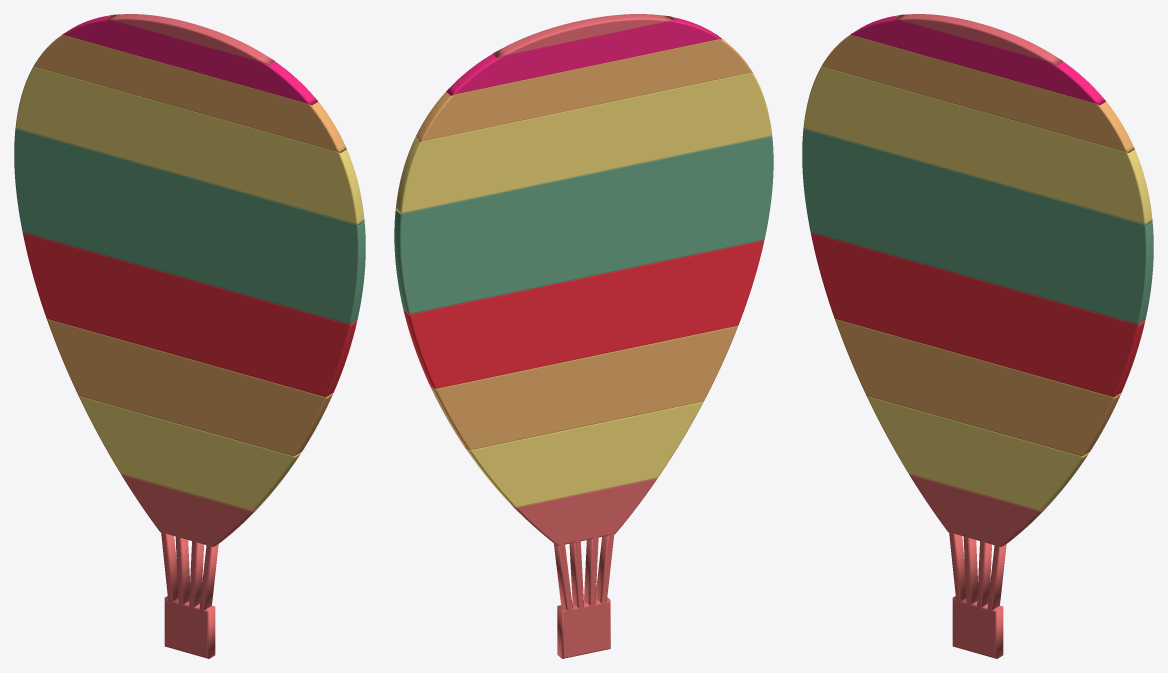
The model's file is airBalloon.glb.
3 views of the same model, side by side, from view 1: azimuth 90°, elevation 25°; view 2: azimuth 150°, elevation 25°; view 3: azimuth 270°, elevation 25° (orthographic).
Parts seen in each view (by area): view 1: Balloon_05_Green, Balloon_04_Yellow, Balloon_06_Yellow, Balloon_03_Orange, Balloon_02_Yellow, Balloon_07_Orange, Balloon_08_Yellow, Balloon_01_Red, Balloon_Basket, Balloon_09_Red, Balloon_Rope_3, Balloon_Rope_4 (+2 smaller); view 2: Balloon_05_Green, Balloon_04_Yellow, Balloon_06_Yellow, Balloon_03_Orange, Balloon_02_Yellow, Balloon_07_Orange, Balloon_08_Yellow, Balloon_01_Red, Balloon_09_Red, Balloon_Basket, Balloon_Rope_1, Balloon_Rope_2 (+2 smaller); view 3: Balloon_05_Green, Balloon_04_Yellow, Balloon_06_Yellow, Balloon_03_Orange, Balloon_02_Yellow, Balloon_07_Orange, Balloon_08_Yellow, Balloon_01_Red, Balloon_Basket, Balloon_09_Red, Balloon_Rope_2, Balloon_Rope_1 (+2 smaller).
Boxes of the visible parts, x1,y1,x2,y2 form: Balloon_05_Green: (14,128,365,324); Balloon_04_Yellow: (22,232,357,396); Balloon_06_Yellow: (15,66,364,225); Balloon_03_Orange: (47,319,333,456); Balloon_02_Yellow: (78,395,301,510); Balloon_07_Orange: (33,35,346,152); Balloon_08_Yellow: (62,15,317,105); Balloon_01_Red: (121,474,258,546); Balloon_Basket: (164,596,215,658); Balloon_09_Red: (105,14,274,64); Balloon_Rope_3: (175,536,189,605); Balloon_Rope_4: (161,532,178,602); Balloon_05_Green: (394,135,773,314); Balloon_04_Yellow: (403,240,764,388); Balloon_06_Yellow: (395,72,771,213); Balloon_03_Orange: (429,325,737,450); Balloon_02_Yellow: (464,401,703,507); Balloon_07_Orange: (415,36,752,142); Balloon_08_Yellow: (446,17,721,95); Balloon_01_Red: (511,478,657,545); Balloon_09_Red: (492,14,675,57); Balloon_Basket: (557,597,610,658); Balloon_Rope_1: (595,533,614,603); Balloon_Rope_2: (584,537,598,606); Balloon_05_Green: (802,128,1153,324); Balloon_04_Yellow: (810,232,1145,396); Balloon_06_Yellow: (803,66,1152,225); Balloon_03_Orange: (835,319,1121,456); Balloon_02_Yellow: (866,395,1089,510); Balloon_07_Orange: (821,35,1134,152); Balloon_08_Yellow: (850,15,1105,105); Balloon_01_Red: (909,474,1046,546); Balloon_Basket: (952,596,1003,658); Balloon_09_Red: (893,14,1062,64); Balloon_Rope_2: (963,536,977,605); Balloon_Rope_1: (949,532,966,602).
Bounding box in the file's own units: 7.99 × 22.97 × 11.7.
